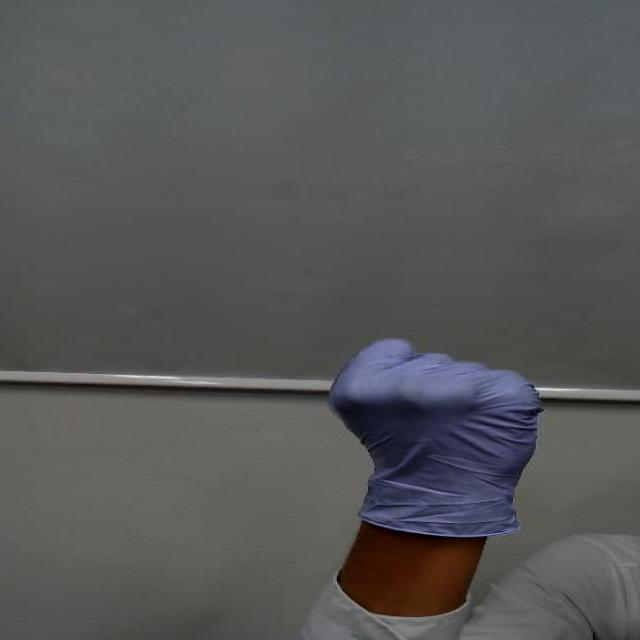glove: (296, 317, 570, 506)
